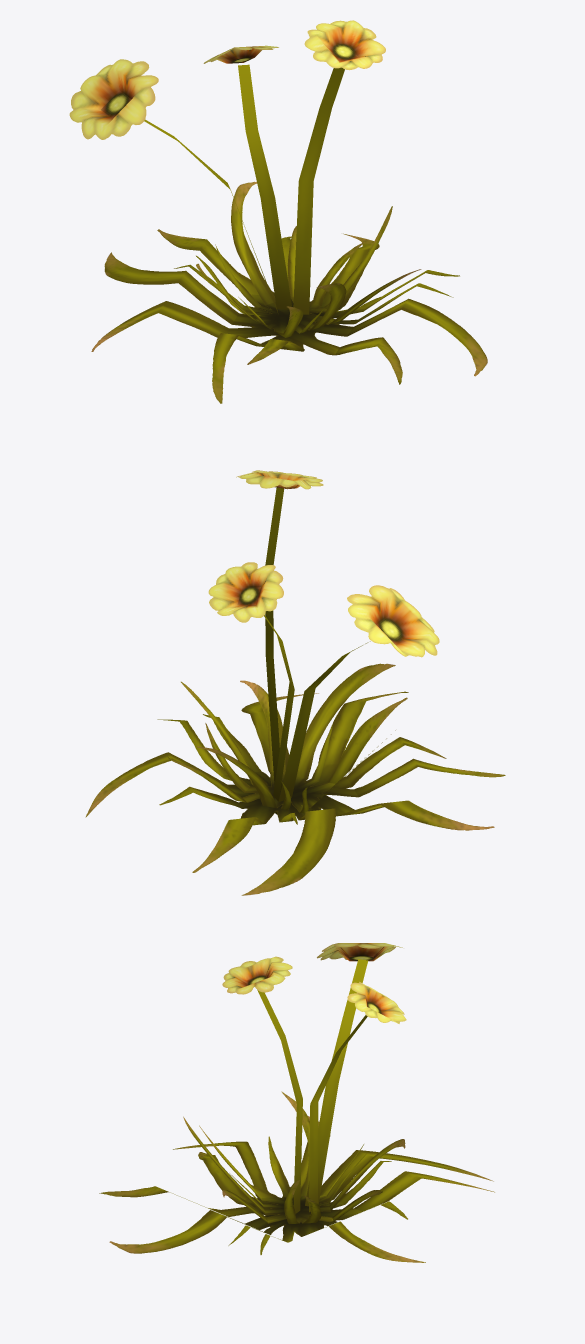
File: flowerA.fbx
The picture shows the model from 3 angles, top to bottom: view 1: azimuth 30°, elevation 25°; view 2: azimuth 150°, elevation 25°; view 3: azimuth 270°, elevation 25°; orthographic projection. The views are drawn at different scales.
Parts seen in each view (by area): view 1: flowerA; view 2: flowerA; view 3: flowerA.
Part boxes in pixels (bbox=[...]): flowerA: bbox=[69, 20, 487, 403]; flowerA: bbox=[85, 470, 505, 895]; flowerA: bbox=[99, 943, 494, 1262].
Size of the model in its own units: 163 by 86.25 by 163.
Materials: 1 (1 with a texture image).
